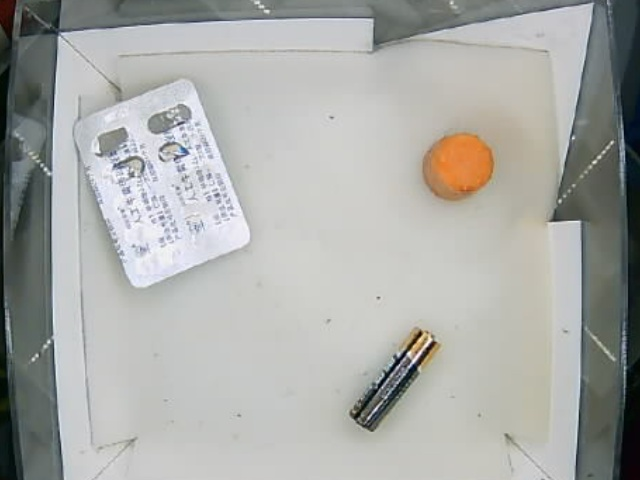Battery: (346, 326, 441, 436)
Carrot: (420, 133, 495, 203)
Medicine: (74, 78, 252, 291)
